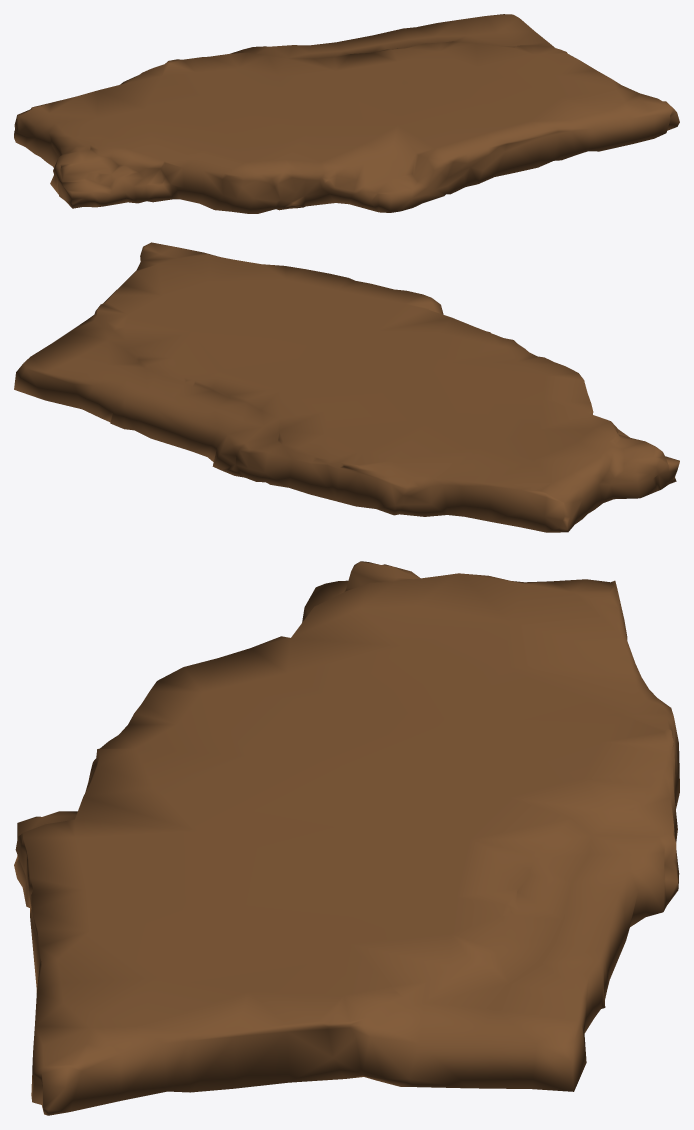
The model's file is MSH_Rocks_Boulder_39.FBX.
The picture shows the model from 3 angles, top to bottom: view 1: azimuth 30°, elevation 25°; view 2: azimuth 150°, elevation 25°; view 3: azimuth 270°, elevation 25°; orthographic projection. The views are drawn at different scales.
Parts seen in each view (by area): view 1: MESH_LOD0; view 2: MESH_LOD0; view 3: MESH_LOD0.
Boxes of the visible parts, x1,y1,x2,y2 form: MESH_LOD0: (14, 14, 679, 213); MESH_LOD0: (14, 242, 679, 532); MESH_LOD0: (14, 561, 679, 1115).
Size of what is drawn, in the model's own units: 426 by 36.68 by 237.
